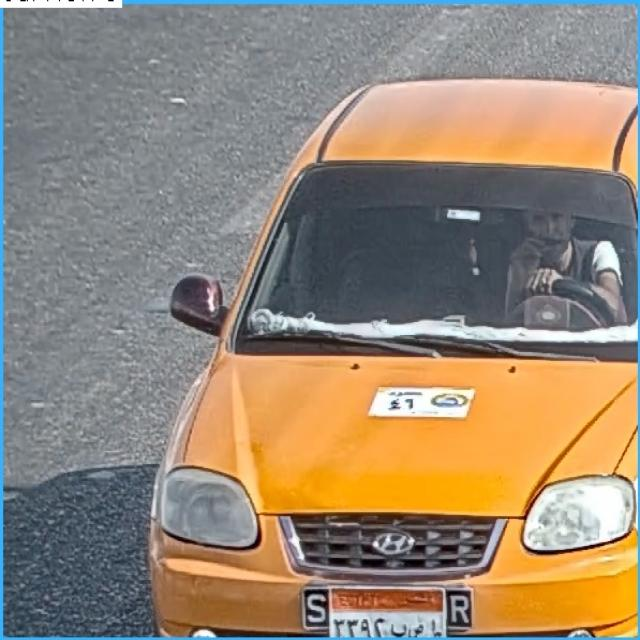windshield: (241, 169, 634, 339)
